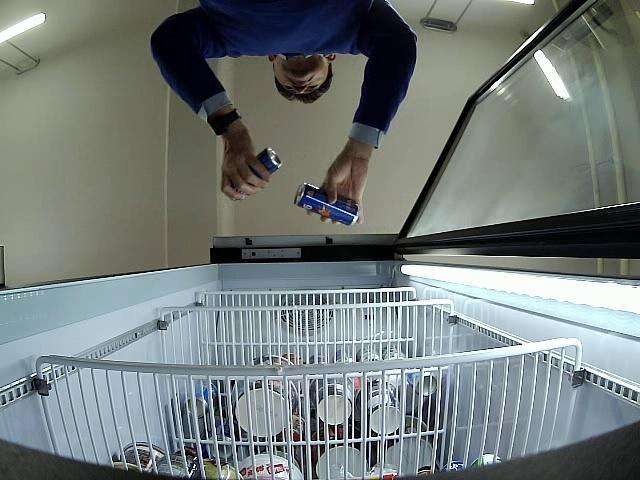16_hot6: (294, 183, 360, 227), (235, 146, 283, 196)
